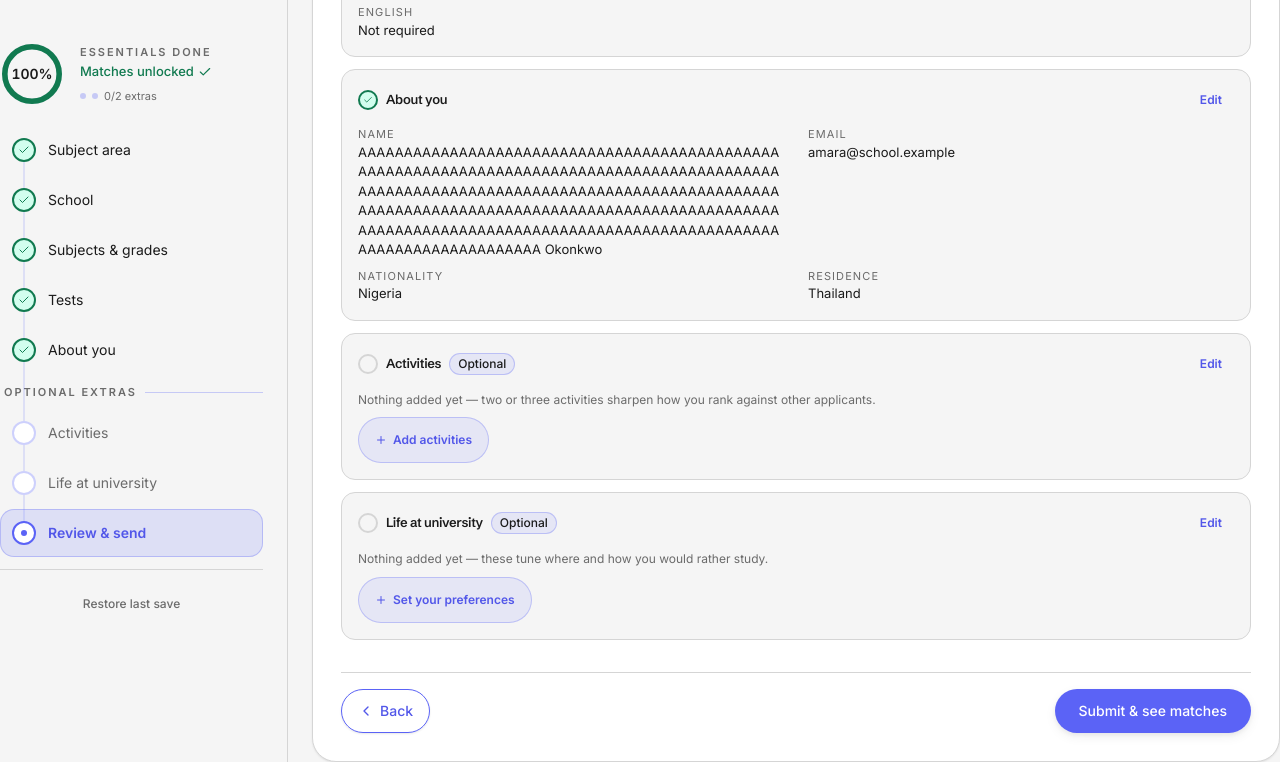
Scenario: a payload rejection survives the live-clear pass › shows a schema rejection on the step it bounces to
(page scrolled)
Click the button "Submit & see matches". click: point(1153, 711)
box: 1054,689 -> 1251,733
(page scrolled)
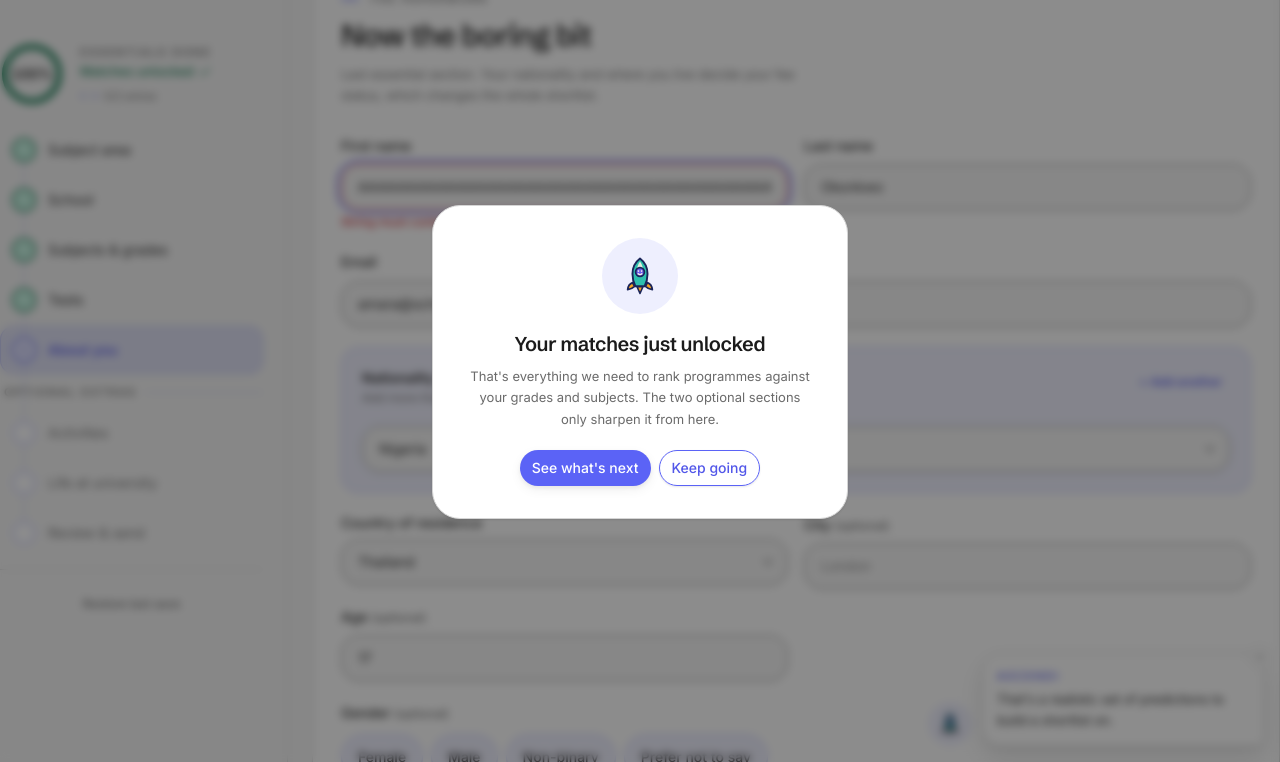
Expected: the heading "Now the boring bit" is shown, 341,16 -> 591,54
Expected: the message "String must contain at most 200 character(s)" is shown, 341,214 -> 598,229
